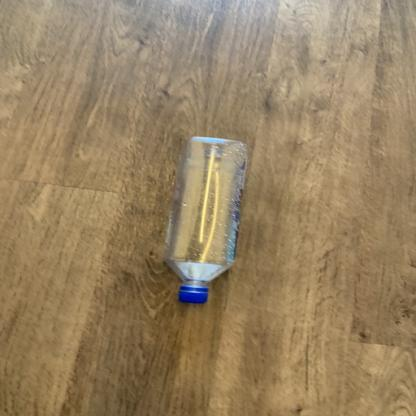trash: (162, 137, 250, 306)
